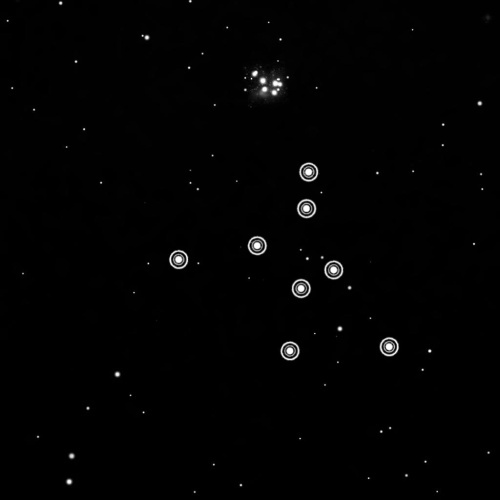hercules: (165, 157, 402, 364)
